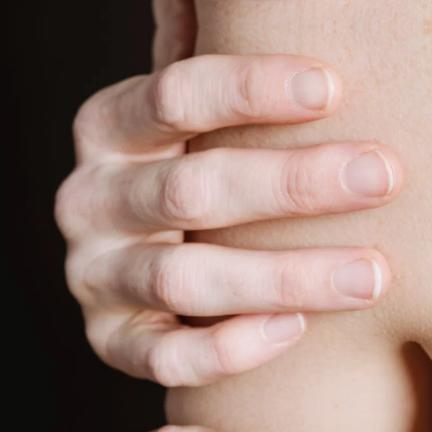Nail: (345, 150, 394, 196), (333, 260, 375, 299), (291, 67, 329, 109), (263, 314, 306, 343)
